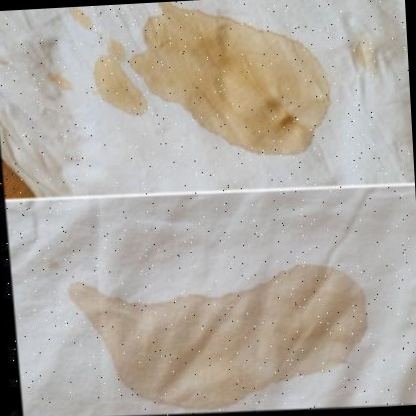coffee: (99, 292, 351, 386), (206, 46, 311, 124), (145, 17, 207, 92)
